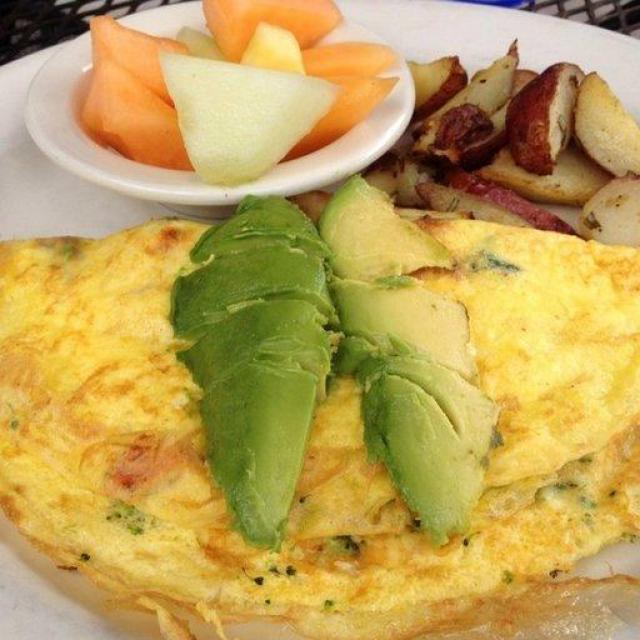food_waste: (1, 195, 616, 640), (316, 175, 506, 549), (84, 1, 407, 187), (182, 203, 337, 540), (401, 33, 640, 231)
